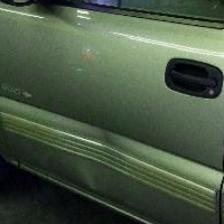door_dent: (52, 114, 144, 202)
